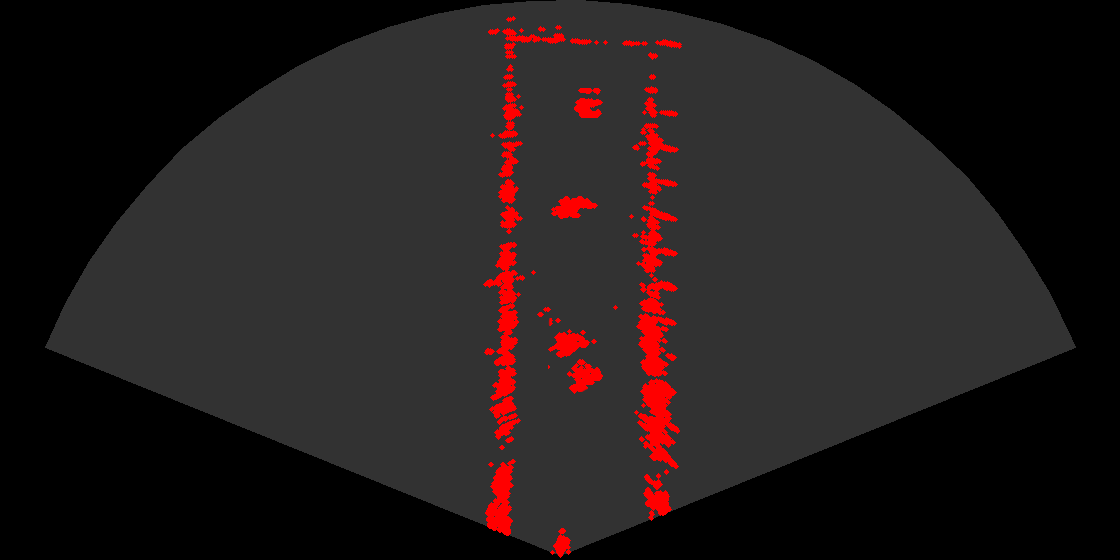AUV: (545, 194, 601, 226)
ball: (554, 80, 614, 121)
cage: (548, 318, 611, 402)
